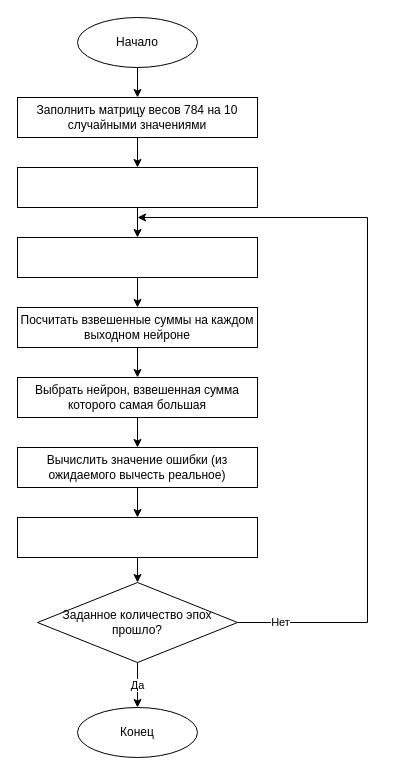
This 393x775 diagram has some shape labels left out. Here are the shapes that lost their labels. From the top down, the centre of each, then its label:
At point 137,187: "Заполнить матрицу cмещений 10 на 1 случайными значениями".
At point 137,257: "Преобразовать входное изображение из выборки в вектор".
At point 137,537: "Откорректировать матрицу весов".
